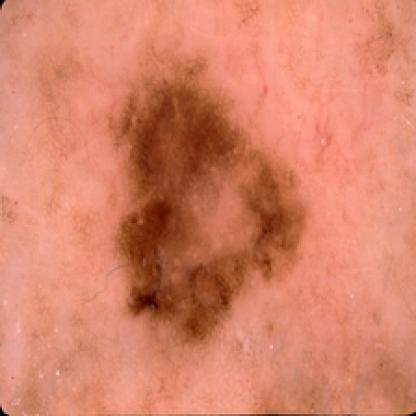malignant: (95, 67, 340, 327)
